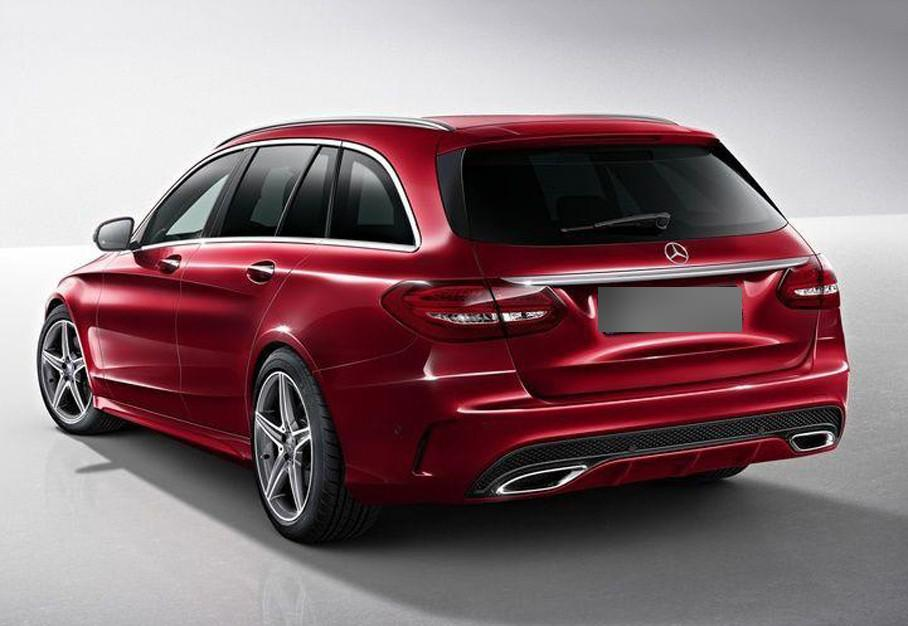Wagon: (36, 114, 851, 547)
